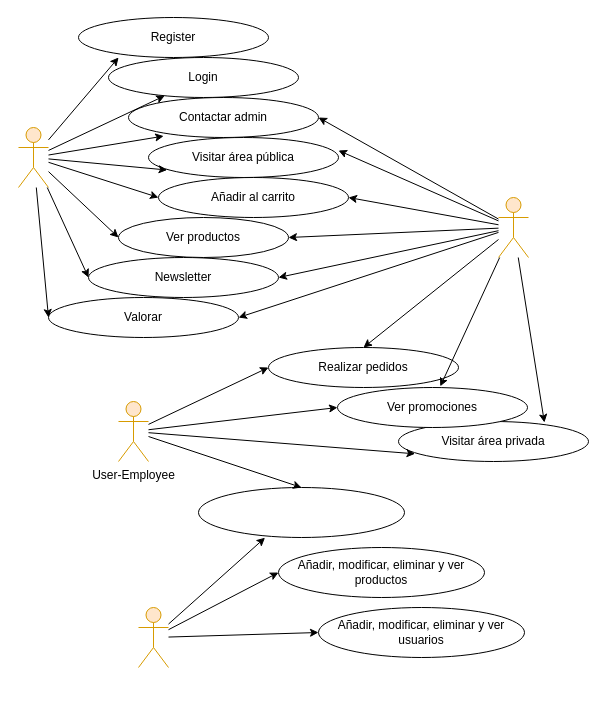
This 606x706 diagram has some shape labels left out. Here are the shapes that lost their labels. From the top down, the centre of each, then its label:
At (x=33, y=157): "Guest".
At (x=513, y=227): "User-Client".
At (x=301, y=512): "Modificar, desactivar y ver pedidos".
At (x=153, y=637): "Admin".
